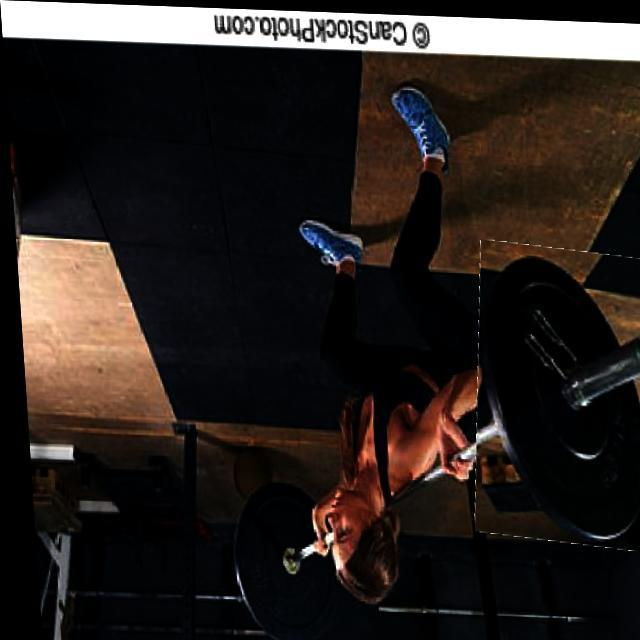barbell: (460, 239, 640, 546)
